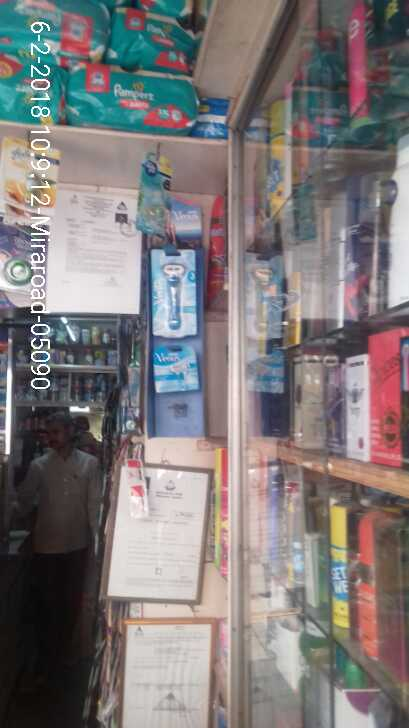beauty: (150, 251, 201, 331), (153, 345, 198, 387)
pharmacy: (67, 63, 205, 134), (110, 6, 198, 66)
